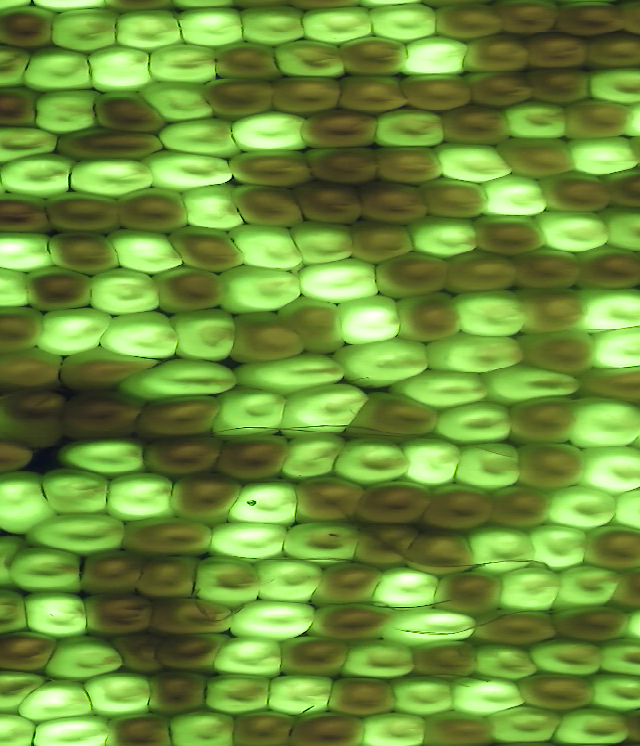fluorescent: (112, 352, 245, 409), (275, 376, 376, 443), (229, 349, 352, 401), (333, 329, 435, 391), (421, 327, 531, 380), (22, 508, 134, 558), (207, 385, 301, 443), (223, 219, 315, 278), (478, 361, 586, 411), (95, 306, 185, 366), (386, 363, 497, 411), (39, 631, 134, 687), (442, 285, 532, 344), (220, 594, 324, 645), (214, 261, 306, 318), (376, 603, 484, 651), (99, 467, 185, 526), (163, 302, 242, 366), (428, 395, 519, 450), (152, 111, 248, 163), (226, 103, 315, 159), (105, 223, 194, 279), (135, 147, 243, 193), (463, 517, 543, 579), (329, 434, 419, 489), (56, 430, 153, 480), (35, 463, 118, 521), (566, 390, 640, 455), (62, 154, 162, 202), (298, 253, 383, 309), (22, 42, 105, 99), (430, 138, 522, 189), (0, 461, 60, 539), (198, 515, 291, 565), (281, 213, 364, 269), (250, 550, 330, 608), (537, 480, 624, 533), (32, 303, 114, 359), (364, 103, 452, 155), (531, 206, 617, 259), (5, 542, 86, 598), (394, 429, 467, 491), (12, 676, 99, 728), (85, 41, 164, 98), (279, 517, 365, 569), (365, 561, 447, 615), (0, 149, 85, 201), (187, 552, 267, 607), (334, 291, 406, 352), (445, 671, 531, 722), (208, 629, 292, 681), (275, 428, 350, 486), (85, 261, 160, 319), (337, 635, 424, 685), (43, 3, 128, 54), (401, 212, 486, 263), (108, 3, 189, 56), (526, 516, 593, 580), (135, 79, 222, 128), (569, 440, 640, 500), (20, 585, 96, 641), (200, 669, 281, 721), (565, 282, 640, 338), (29, 86, 108, 139), (524, 632, 611, 680), (493, 563, 570, 617), (224, 478, 303, 530), (543, 703, 637, 746), (455, 439, 531, 492), (262, 669, 340, 720), (271, 34, 352, 83), (472, 170, 553, 219), (172, 2, 256, 49), (547, 565, 631, 612), (80, 668, 157, 719), (481, 702, 570, 746), (147, 39, 225, 89), (469, 636, 547, 686), (174, 180, 246, 234), (501, 97, 576, 148), (232, 2, 314, 48), (562, 131, 640, 179), (364, 1, 445, 46), (387, 672, 461, 721), (298, 1, 378, 46), (399, 32, 475, 78), (0, 119, 67, 171), (164, 702, 243, 746), (577, 319, 640, 372), (32, 709, 121, 746), (352, 706, 432, 746), (0, 226, 63, 275), (0, 663, 55, 718), (581, 59, 640, 107), (593, 201, 640, 257), (585, 669, 640, 716), (594, 631, 640, 684), (0, 529, 33, 597), (0, 39, 38, 94), (0, 585, 35, 641), (605, 483, 640, 539), (0, 261, 35, 315), (0, 706, 44, 746)
nonfluorescent: (55, 382, 155, 446), (341, 387, 446, 446), (56, 344, 166, 398), (511, 325, 607, 384), (131, 389, 228, 447), (0, 380, 75, 454), (224, 309, 313, 369), (114, 512, 221, 561), (51, 123, 171, 166), (225, 141, 322, 194), (140, 429, 230, 485), (505, 437, 590, 496), (503, 389, 585, 450), (214, 429, 297, 489), (369, 247, 456, 304), (39, 186, 129, 241), (166, 220, 254, 276), (400, 521, 482, 580), (417, 479, 503, 535), (276, 295, 351, 359), (144, 590, 240, 640), (351, 476, 438, 531), (391, 288, 472, 347), (510, 283, 595, 339), (464, 606, 565, 653), (289, 471, 371, 528), (225, 179, 311, 233), (41, 226, 130, 278), (370, 139, 454, 194), (305, 557, 389, 611), (305, 599, 401, 646), (114, 184, 196, 239), (164, 469, 246, 524), (271, 631, 356, 684), (152, 263, 231, 320), (349, 177, 436, 228), (439, 247, 524, 299), (555, 95, 640, 147), (493, 134, 583, 183), (74, 589, 162, 639), (88, 84, 171, 137), (294, 105, 385, 153), (344, 214, 422, 270), (513, 669, 600, 719), (350, 517, 432, 570), (537, 167, 616, 222), (426, 567, 511, 618), (405, 635, 488, 687), (154, 629, 237, 681), (207, 36, 291, 87), (470, 209, 554, 260), (324, 669, 408, 720), (302, 141, 387, 191), (552, 600, 640, 648), (137, 668, 219, 719), (291, 176, 368, 230), (438, 99, 519, 150), (72, 547, 149, 600), (0, 343, 74, 398), (507, 246, 586, 297), (331, 69, 411, 119), (24, 261, 98, 315), (196, 74, 279, 122), (129, 550, 204, 603), (335, 31, 416, 80), (267, 69, 346, 119), (569, 241, 640, 296), (399, 69, 481, 116), (455, 31, 535, 79), (416, 175, 495, 223), (485, 481, 556, 534), (523, 27, 594, 78), (424, 2, 509, 44), (413, 708, 505, 746), (282, 708, 372, 746), (458, 68, 538, 110), (577, 522, 640, 575), (572, 359, 640, 408), (487, 1, 572, 40), (0, 627, 65, 678), (0, 2, 61, 56), (522, 65, 595, 109), (551, 1, 628, 40), (101, 708, 180, 746), (105, 629, 167, 677), (0, 300, 50, 358), (226, 707, 298, 746), (0, 188, 55, 239), (0, 420, 41, 482), (0, 82, 44, 132), (595, 165, 640, 213), (604, 563, 640, 614)
